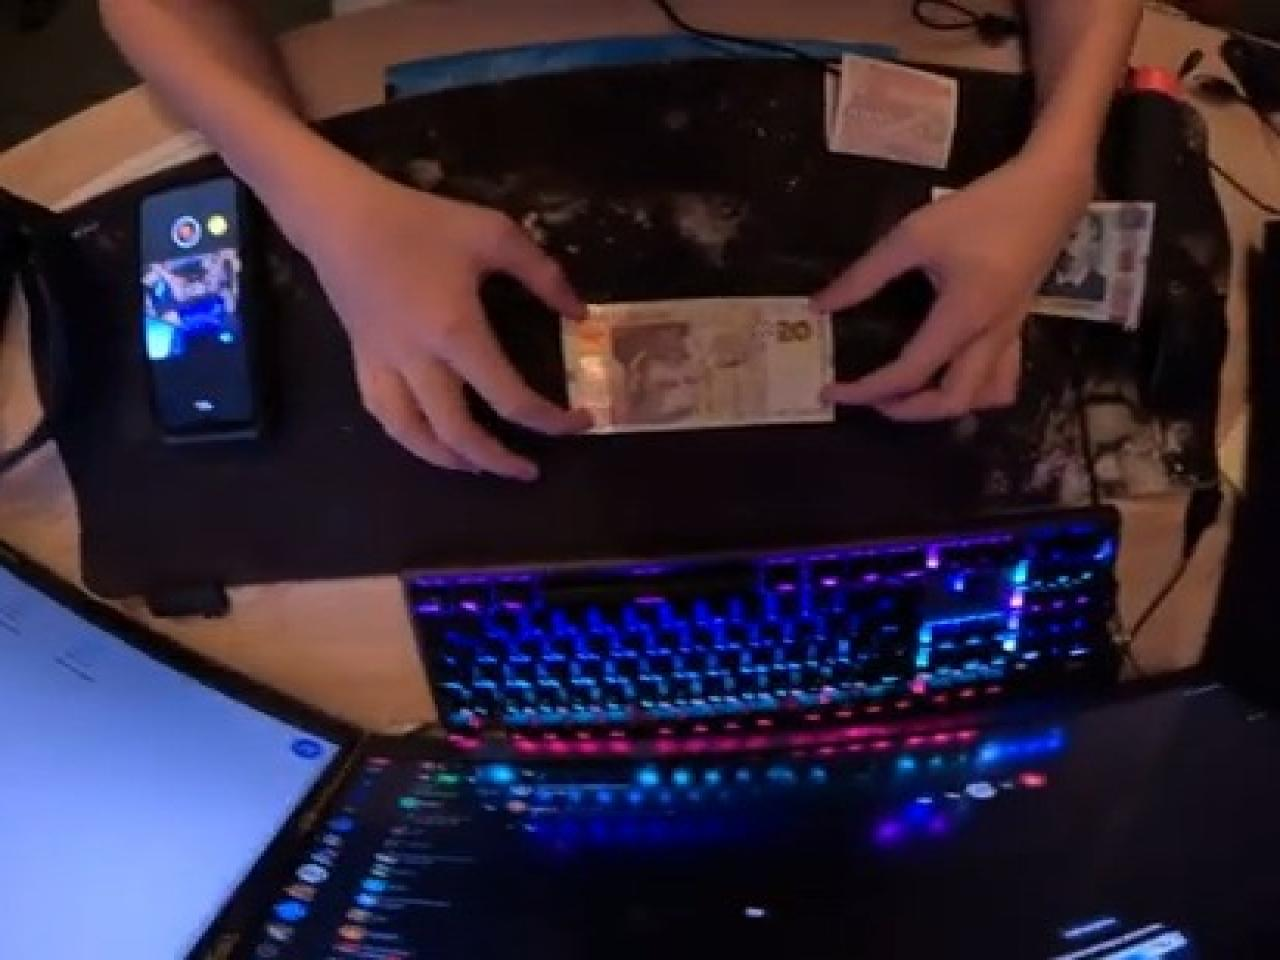50leva: (559, 293, 836, 432)
